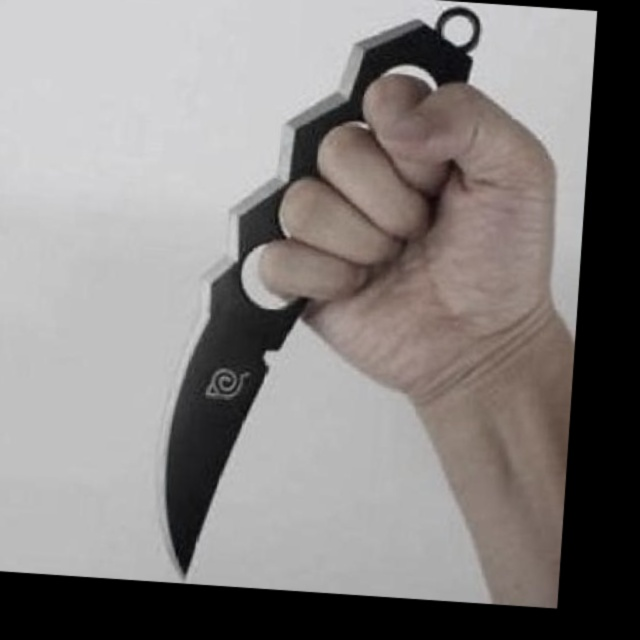Sharp-Object: (155, 0, 481, 597)
